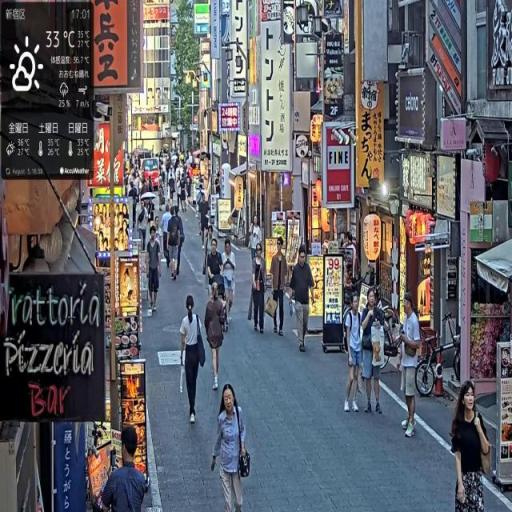person: (450, 380, 494, 512), (212, 384, 253, 512), (93, 425, 149, 512), (393, 291, 423, 441), (180, 294, 211, 425), (359, 288, 389, 417), (290, 248, 316, 355), (344, 294, 365, 416), (205, 282, 228, 391), (270, 242, 289, 339), (251, 243, 268, 337), (147, 228, 163, 317), (167, 207, 186, 281), (222, 239, 237, 329)
